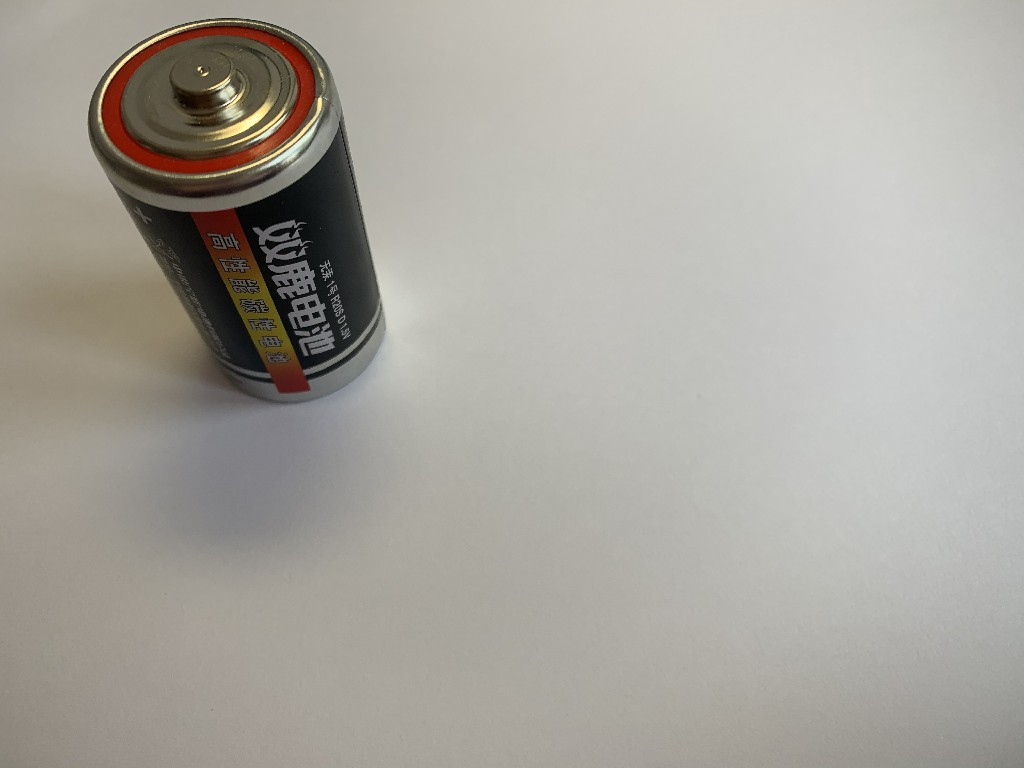charge: (84, 13, 392, 409)
